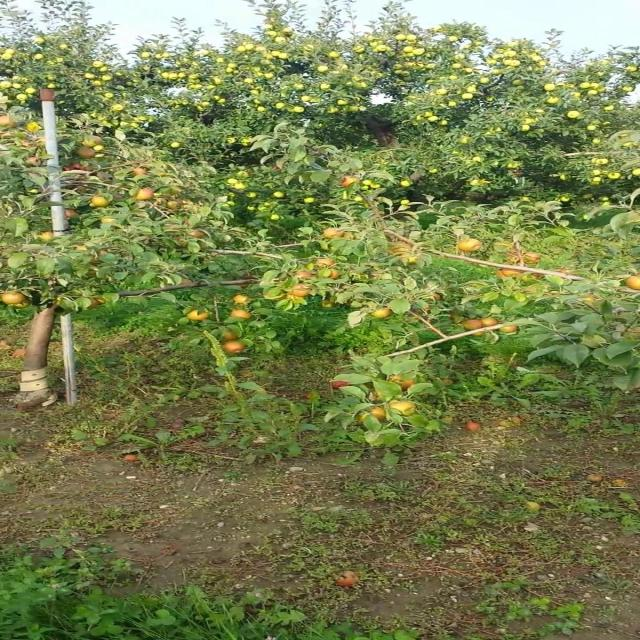apple: (390, 376, 418, 392), (390, 404, 420, 416), (461, 240, 484, 252), (134, 188, 156, 200), (497, 268, 523, 278), (77, 148, 98, 160), (390, 244, 412, 255), (504, 252, 524, 264), (461, 320, 484, 330), (6, 292, 25, 304), (13, 296, 32, 308), (227, 344, 247, 355), (92, 196, 110, 208), (625, 276, 639, 291), (291, 288, 313, 297), (376, 308, 391, 320), (404, 256, 423, 265), (582, 296, 601, 305), (376, 408, 389, 421), (326, 228, 341, 239), (191, 312, 210, 320), (234, 312, 251, 320), (483, 320, 500, 328), (319, 260, 336, 268), (70, 164, 87, 172), (42, 232, 57, 241), (504, 324, 519, 333), (84, 140, 103, 147), (340, 180, 356, 188), (234, 296, 249, 304), (191, 232, 206, 240), (298, 272, 313, 280), (134, 168, 149, 176), (326, 272, 341, 280), (525, 256, 540, 264), (92, 300, 107, 308), (6, 116, 16, 128), (28, 156, 41, 165), (532, 272, 546, 280), (170, 200, 180, 211), (63, 212, 78, 219), (227, 332, 240, 340), (28, 124, 41, 132), (177, 240, 190, 248), (333, 384, 350, 390), (326, 300, 338, 308), (476, 328, 487, 336), (433, 292, 443, 300), (497, 244, 512, 249), (184, 280, 194, 287), (497, 272, 508, 278), (77, 248, 89, 252), (184, 220, 192, 226), (106, 220, 117, 224), (77, 188, 87, 192), (99, 252, 107, 256)
